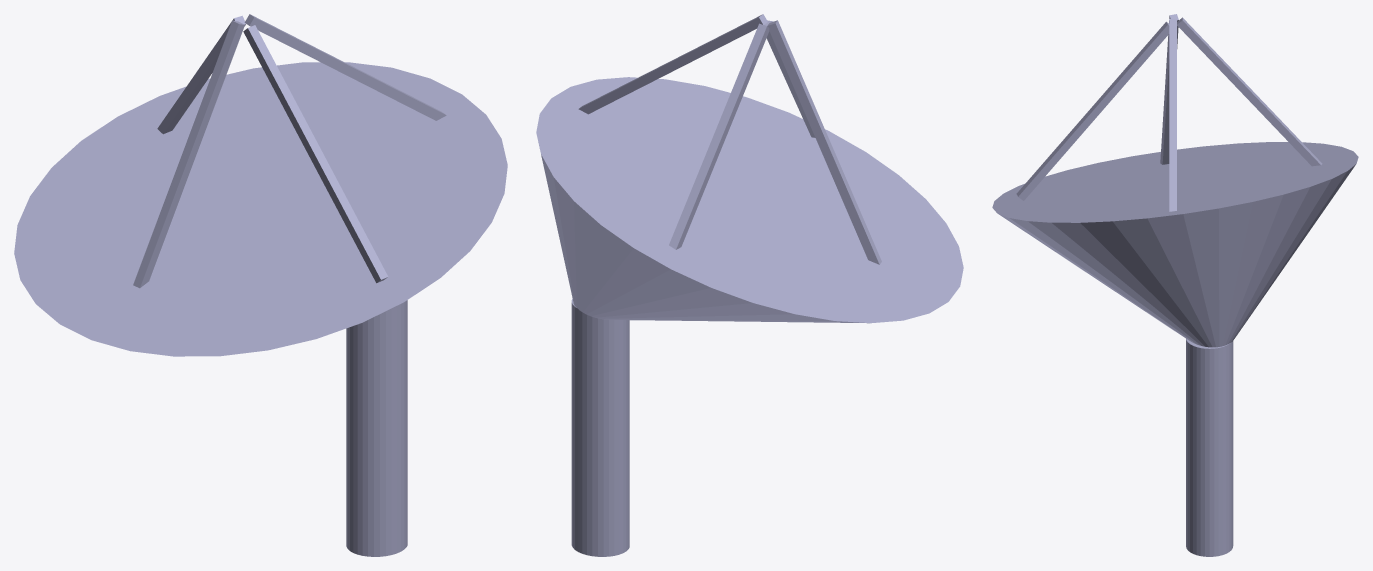
Rendered from radar.fbx.
3 views of the same model, side by side, from view 1: azimuth 30°, elevation 25°; view 2: azimuth 150°, elevation 25°; view 3: azimuth 270°, elevation 25° (orthographic). The views are drawn at different scales.
Parts seen in each view (by area): view 1: Cylinder; view 2: Cylinder; view 3: Cylinder.
Boxes of the visible parts, x1=… form: Cylinder: x1=14, y1=14, x2=507, y2=556; Cylinder: x1=536, y1=14, x2=963, y2=556; Cylinder: x1=992, y1=14, x2=1358, y2=556.
Bounding box in the file's own units: 5.98 × 7.99 × 5.66.
